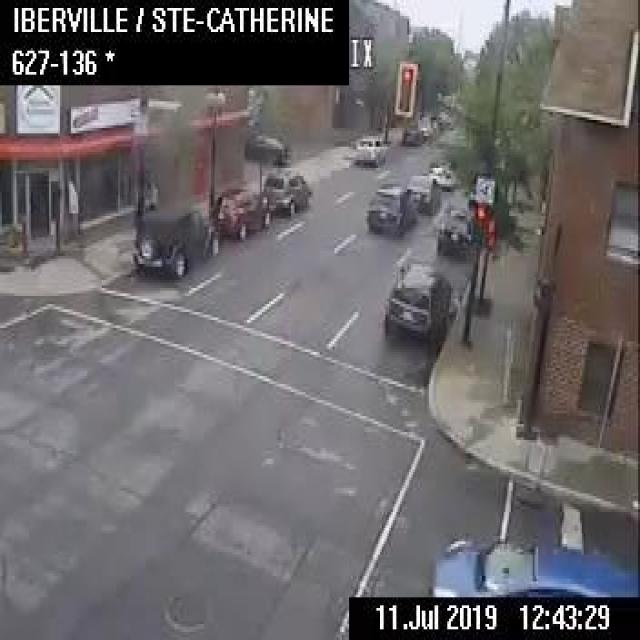vehicle: (427, 530, 638, 594), (130, 202, 219, 276), (384, 260, 451, 342), (212, 185, 269, 239), (365, 182, 419, 233), (260, 168, 310, 215), (436, 205, 472, 258), (405, 172, 441, 213), (244, 130, 290, 160), (353, 133, 386, 163), (428, 158, 456, 188), (416, 114, 437, 135), (402, 123, 422, 144)
